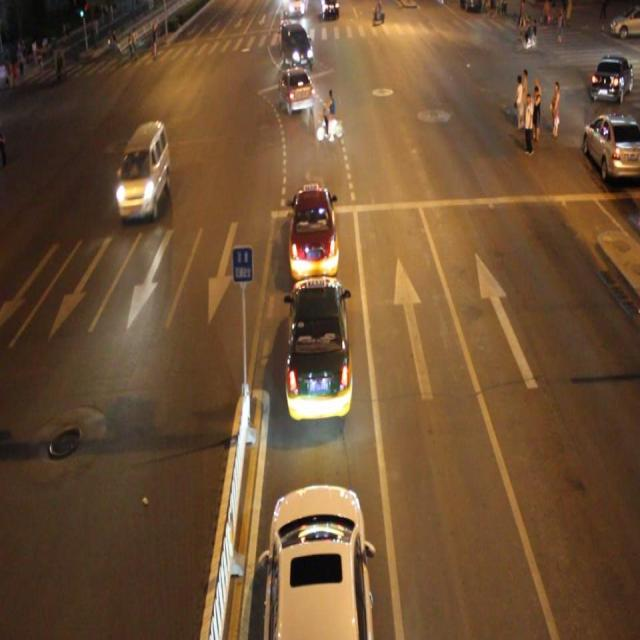car: (261, 477, 375, 640), (285, 276, 352, 420), (287, 188, 339, 284), (279, 70, 314, 117), (280, 28, 314, 75)
truck: (116, 122, 171, 218)
